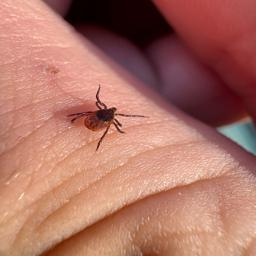Ixodes scapularis: (68, 84, 149, 150)
